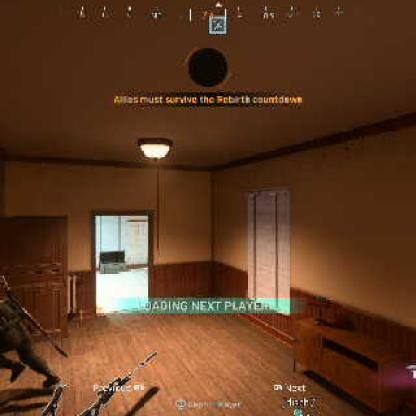enemy: (1, 270, 58, 390)
